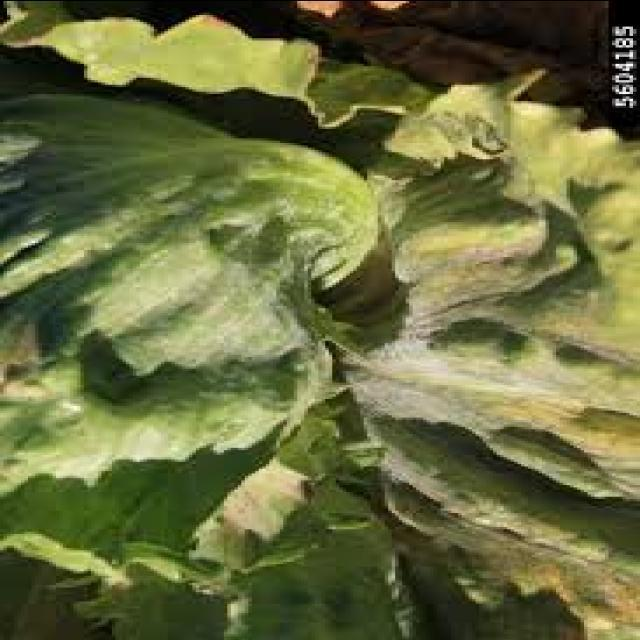Powdery_mildew_on_lettuce: (50, 240, 615, 456)
